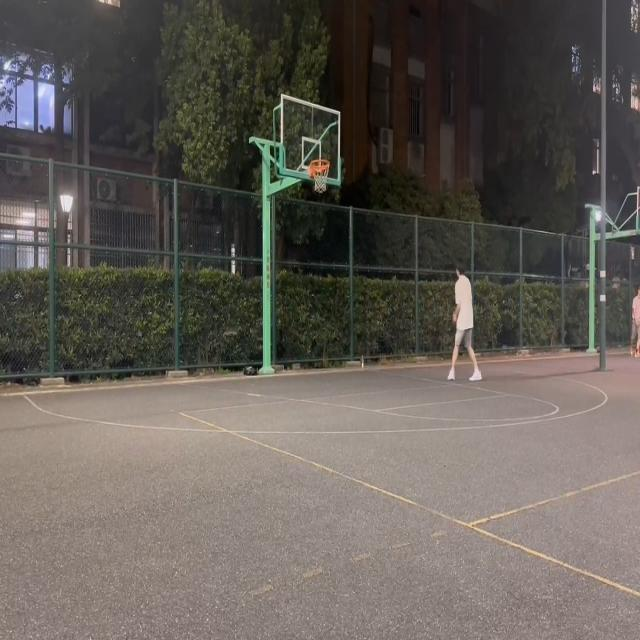basketball: (309, 159, 330, 193)
